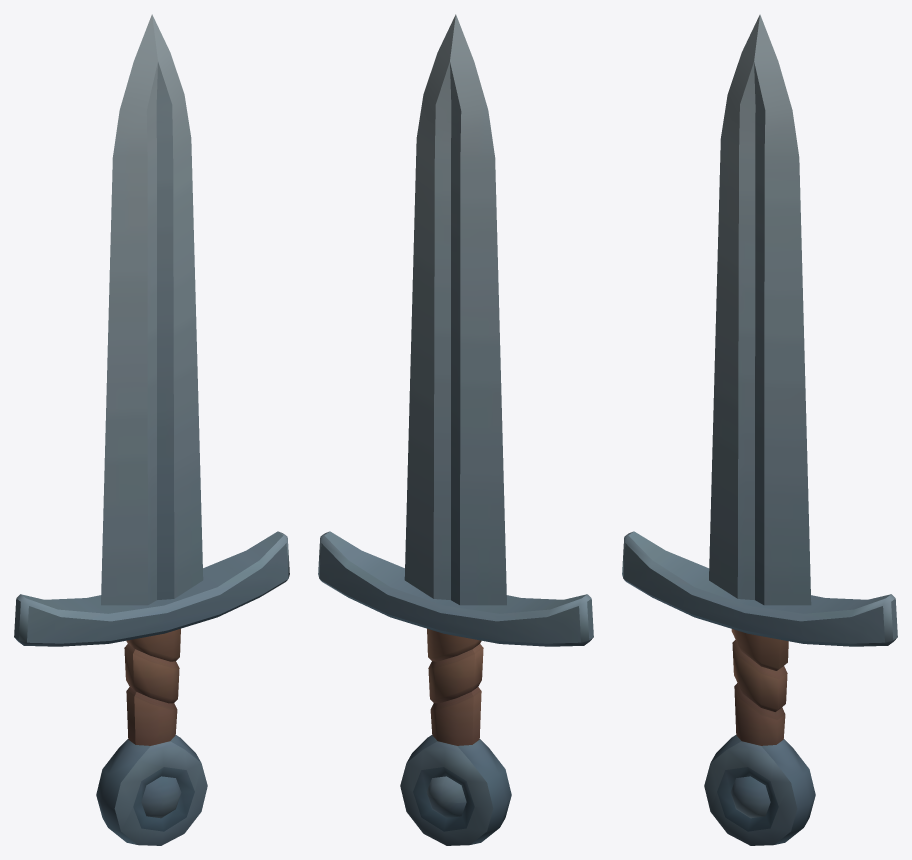
The model's file is sword_b.84306e24.glb.
The picture shows the model from 3 angles, left to right: view 1: azimuth 30°, elevation 25°; view 2: azimuth 150°, elevation 25°; view 3: azimuth 330°, elevation 25°; orthographic projection.
Parts seen in each view (by area): view 1: sword_B; view 2: sword_B; view 3: sword_B.
Part boxes in pixels (x1,y1,x2,y2): sword_B: (14,14,289,845); sword_B: (318,14,593,845); sword_B: (622,14,897,845).
Bounding box in the file's own units: 0.6109 × 1.79 × 0.1202.
Materials: 1 (1 with a texture image).
